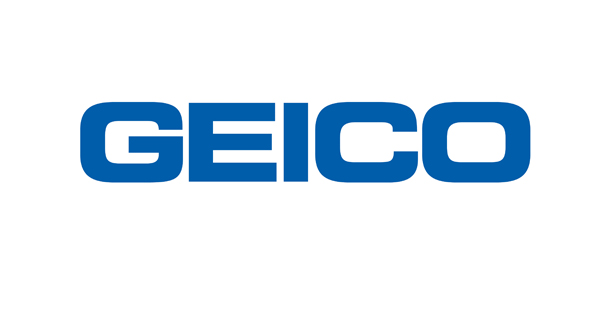Geico: (77, 98, 539, 189)
